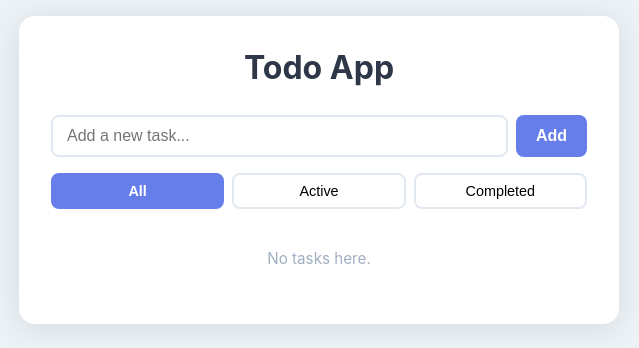
Test case: App › deletes a todo
Type "To delete" into the field with placeholder "Add a new task...".
click(279, 136); type("To delete")  # box x1=51 y1=115 x2=508 y2=157
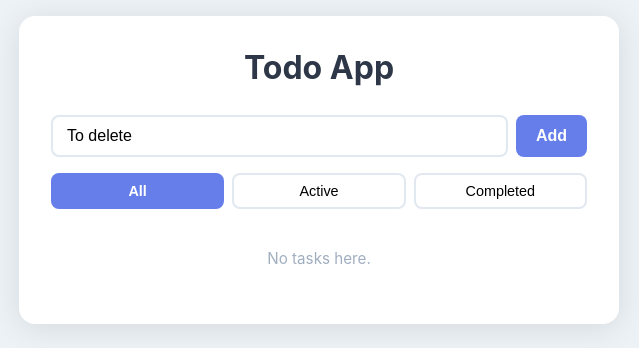
Click the button "Add".
click(551, 136)  # box x1=516 y1=115 x2=587 y2=157
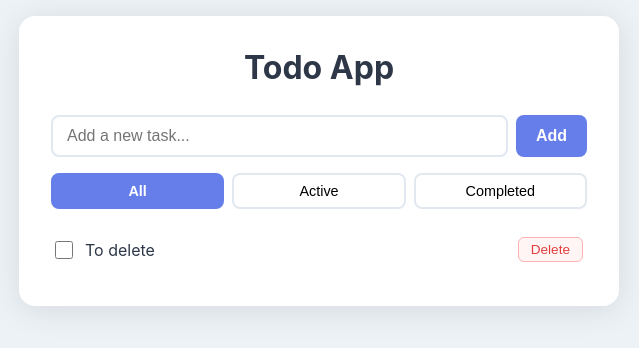
Click the button "Delete".
click(550, 250)  # box x1=518 y1=237 x2=583 y2=262
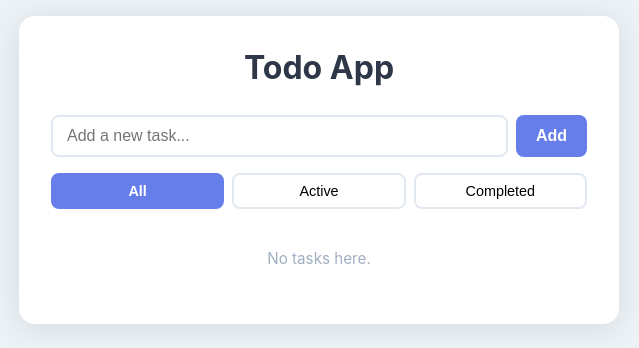
Now the text "To delete" is gone
